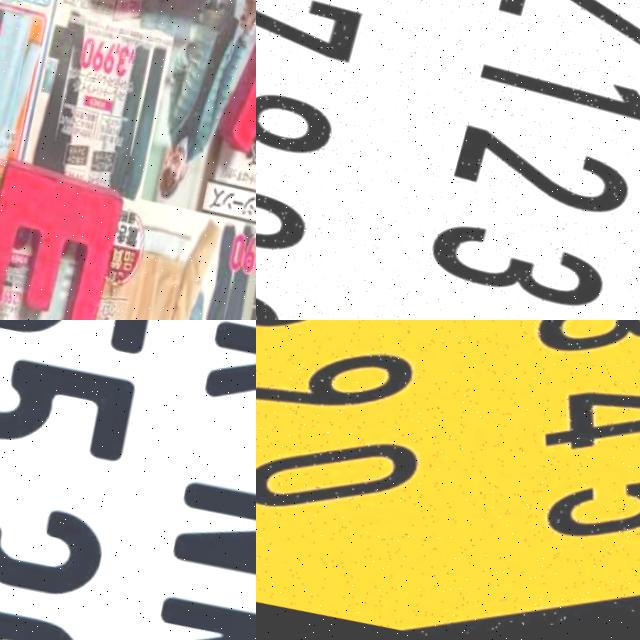0: (256, 371, 454, 585)
1: (449, 32, 640, 163)
2: (412, 102, 640, 260)
3: (392, 198, 629, 320), (0, 451, 108, 627), (488, 320, 640, 432)
4: (490, 320, 640, 529)
5: (500, 417, 640, 613), (0, 320, 137, 485), (0, 320, 164, 387)
7: (256, 0, 400, 104)
8: (256, 40, 366, 198), (256, 320, 454, 400)
9: (256, 320, 453, 493), (256, 137, 335, 294)
E: (0, 154, 130, 320)
I: (189, 2, 256, 254)
K: (181, 320, 256, 474)
N: (149, 465, 256, 635)
